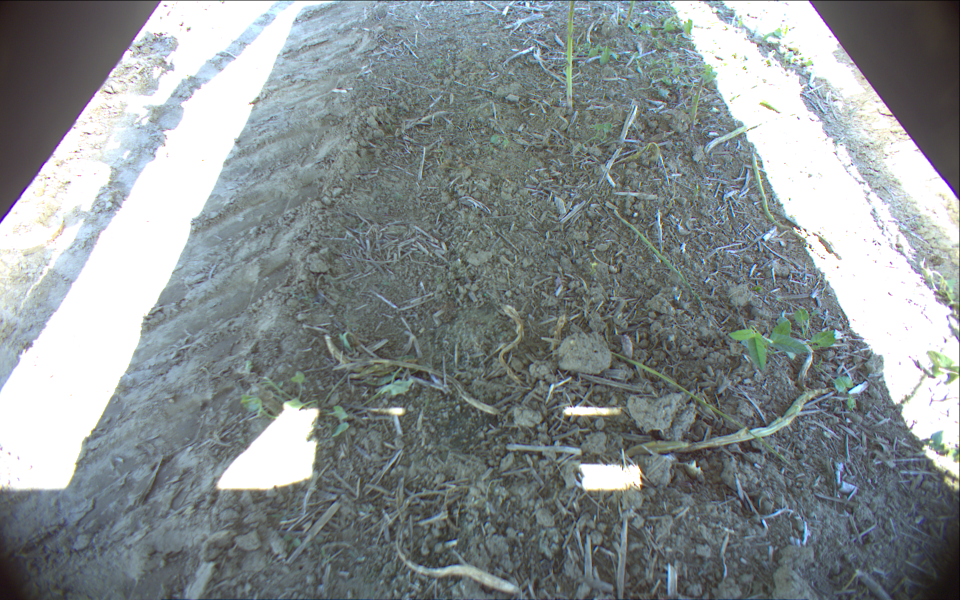aspa: (562, 1, 581, 116)
